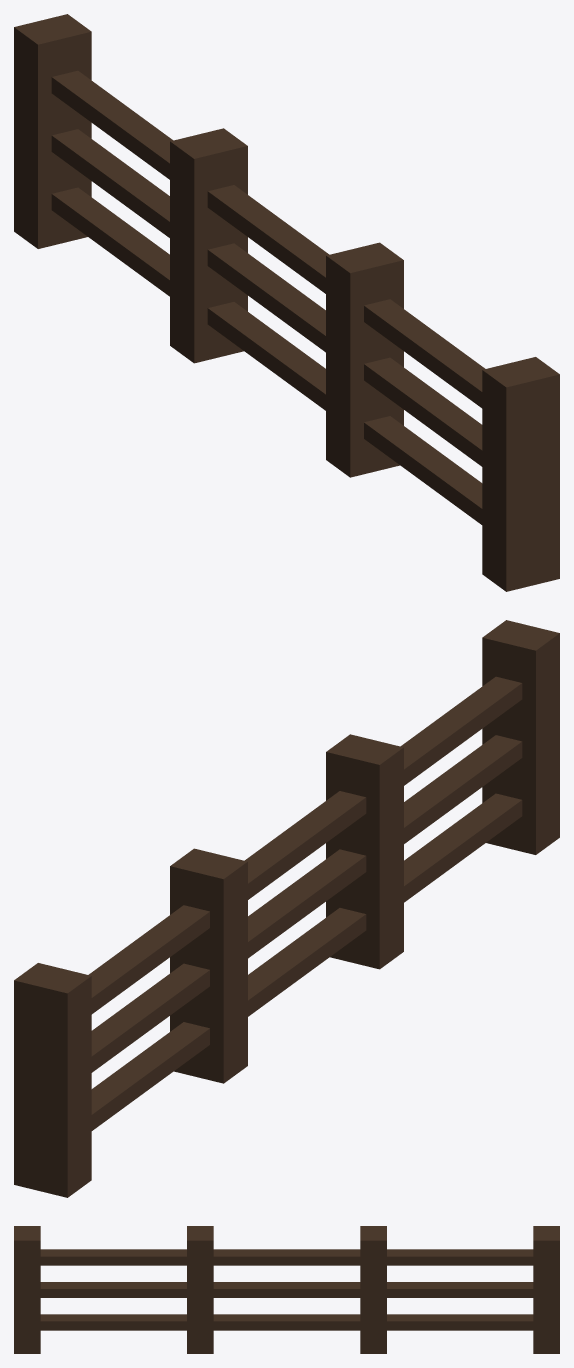
File: fencing 1.fbx
3 views of the same model, one above another, from view 1: azimuth 30°, elevation 25°; view 2: azimuth 150°, elevation 25°; view 3: azimuth 270°, elevation 25° (orthographic). The views are drawn at different scales.
Parts seen in each view (by area): view 1: Fencing; view 2: Fencing; view 3: Fencing.
Part boxes in pixels (left/top/right/bottom): Fencing: left=14, top=14, right=559, bottom=591; Fencing: left=14, top=620, right=559, bottom=1197; Fencing: left=14, top=1226, right=559, bottom=1353.
Bounding box in the file's own units: 106 × 386 × 1685.
